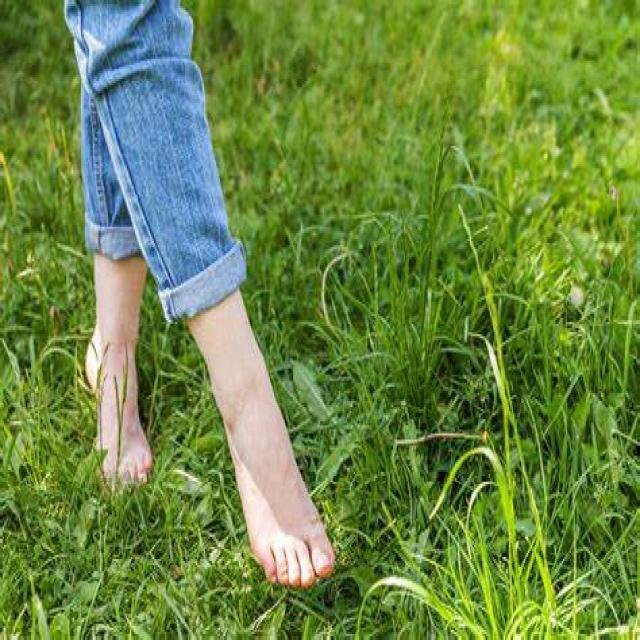no_boots: (182, 304, 351, 617), (62, 227, 166, 513)
